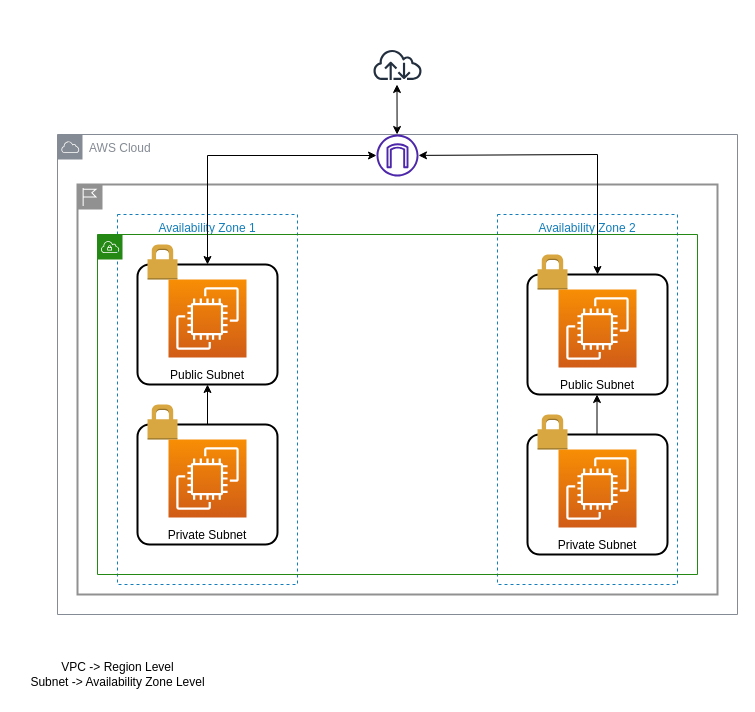
Some shapes in this 755 by 712 pixel diagram are drawn without their labels. Here are the shapes that lost their labels. From the top down, the box of each, then its label:
(366, 34, 428, 94): Internet
(376, 134, 418, 176): Internet Gateway
(76, 183, 718, 595): Region
(96, 234, 698, 574): VPC
